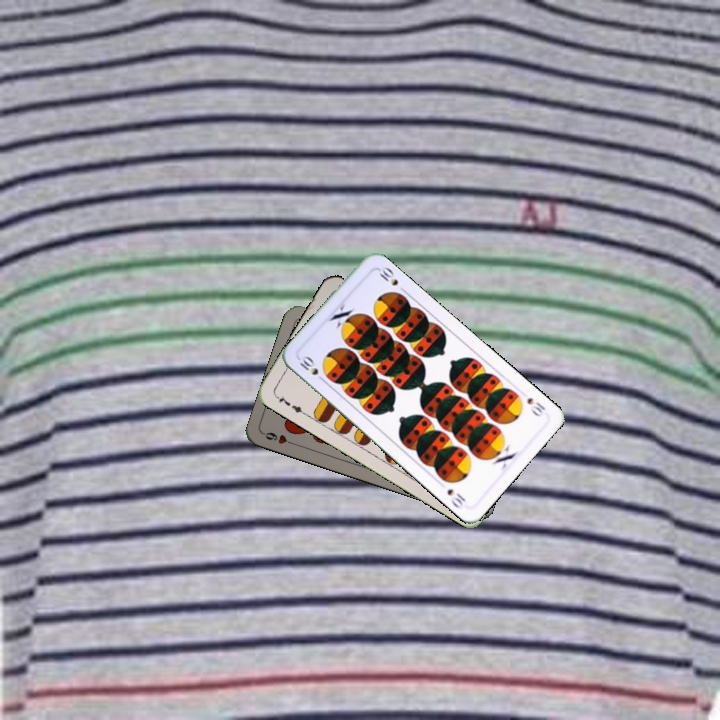E7: (271, 390, 308, 417)
H9: (260, 428, 299, 448)
S10: (295, 352, 328, 385), (523, 393, 548, 419)
